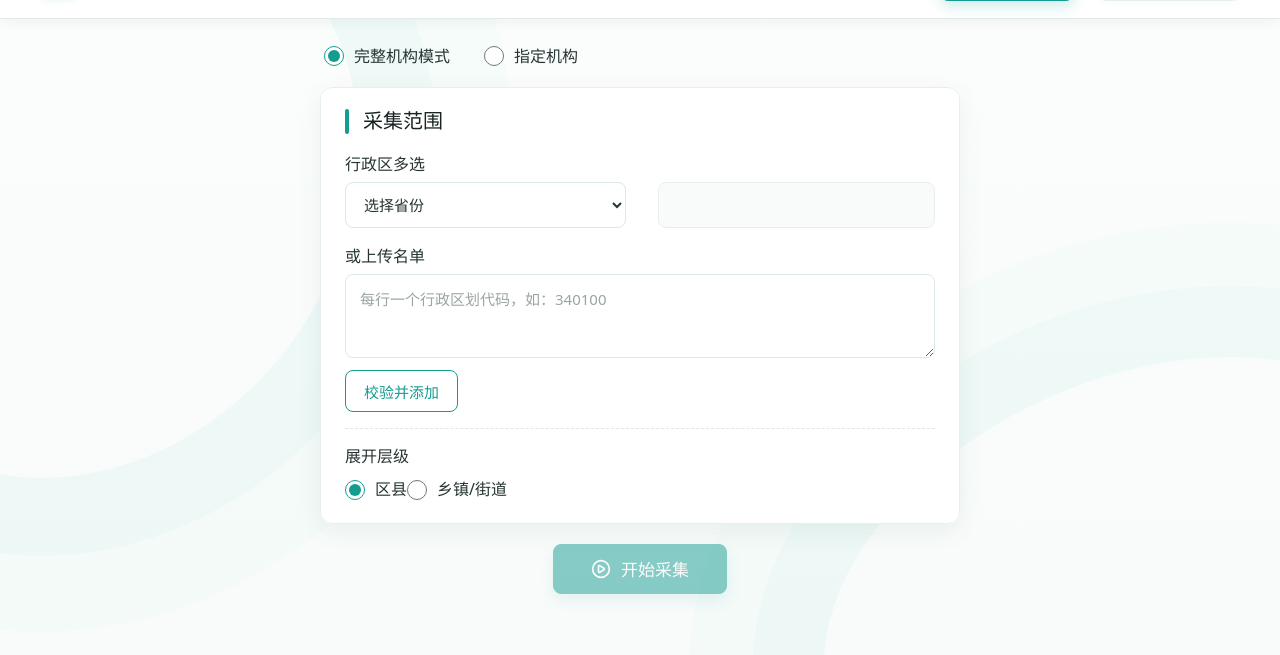
Test: 网页工作台 › 指定机构模式提交后显示任务状态与两行结果
This screenshot has width=1280, height=655.
Click the radio button labelled "指定机构" at (494, 56), box x1=484 y1=46 x2=504 y2=66
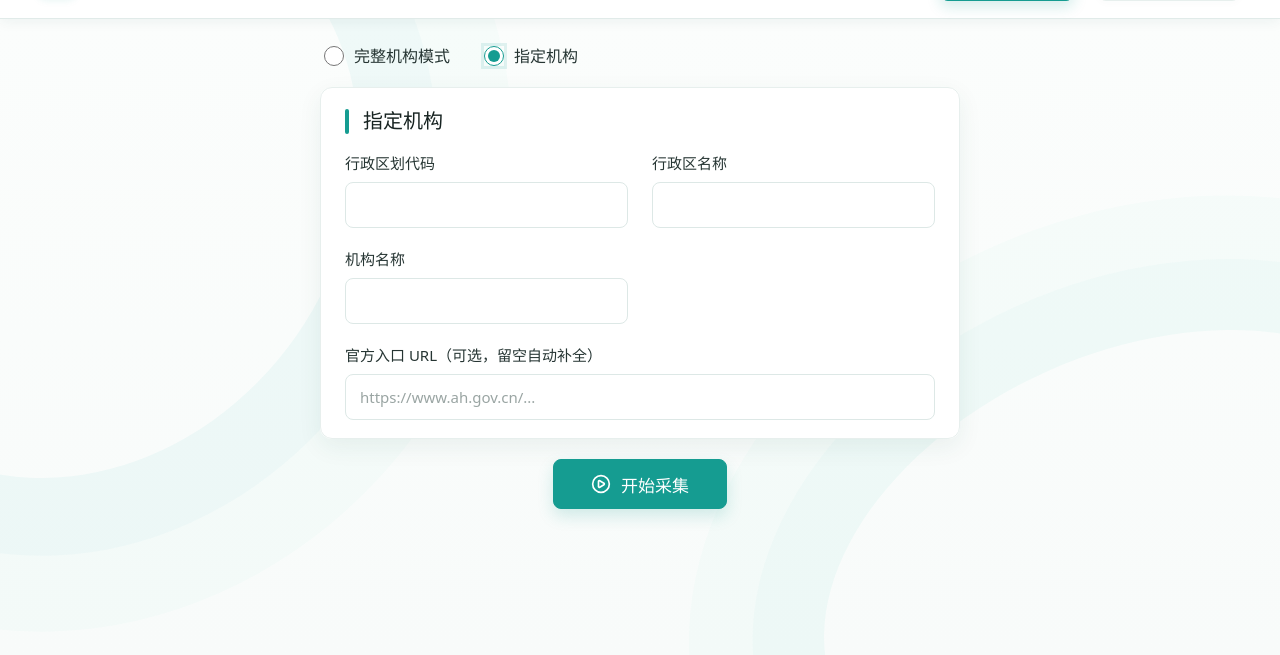
Type "110000" into the field labelled "行政区划代码" at (486, 205), box x1=345 y1=182 x2=628 y2=228
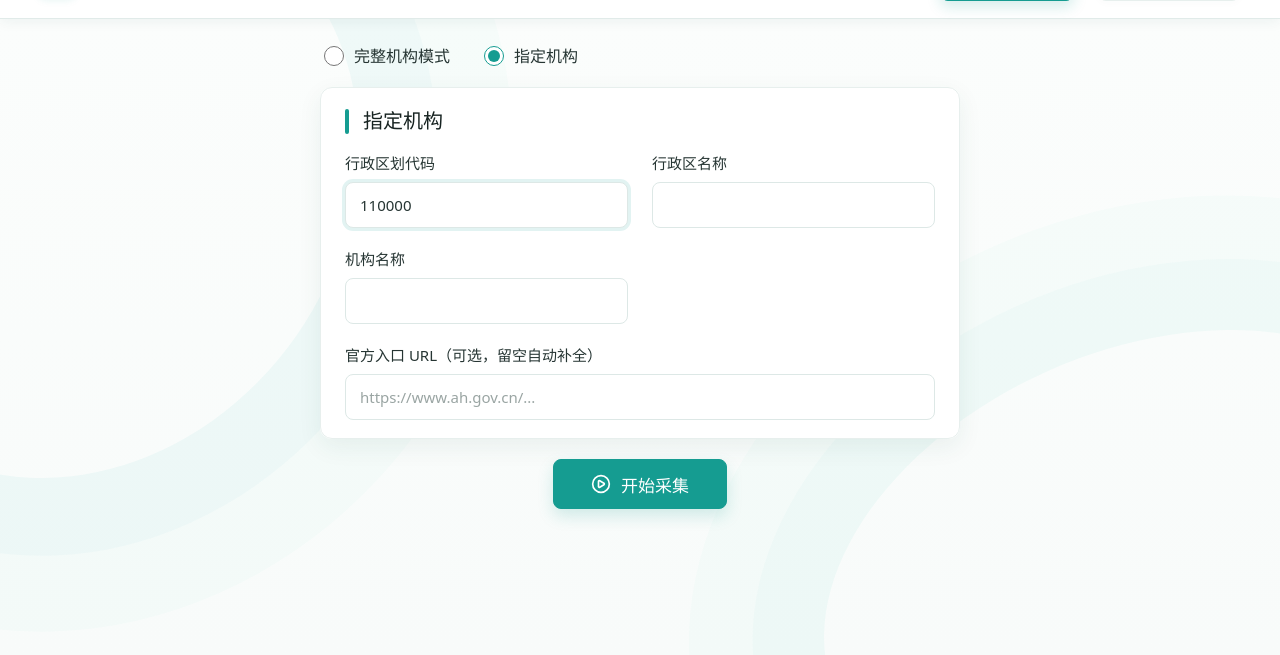
Type "北京市" into the field labelled "行政区名称" at (794, 205), box x1=652 y1=182 x2=935 y2=228
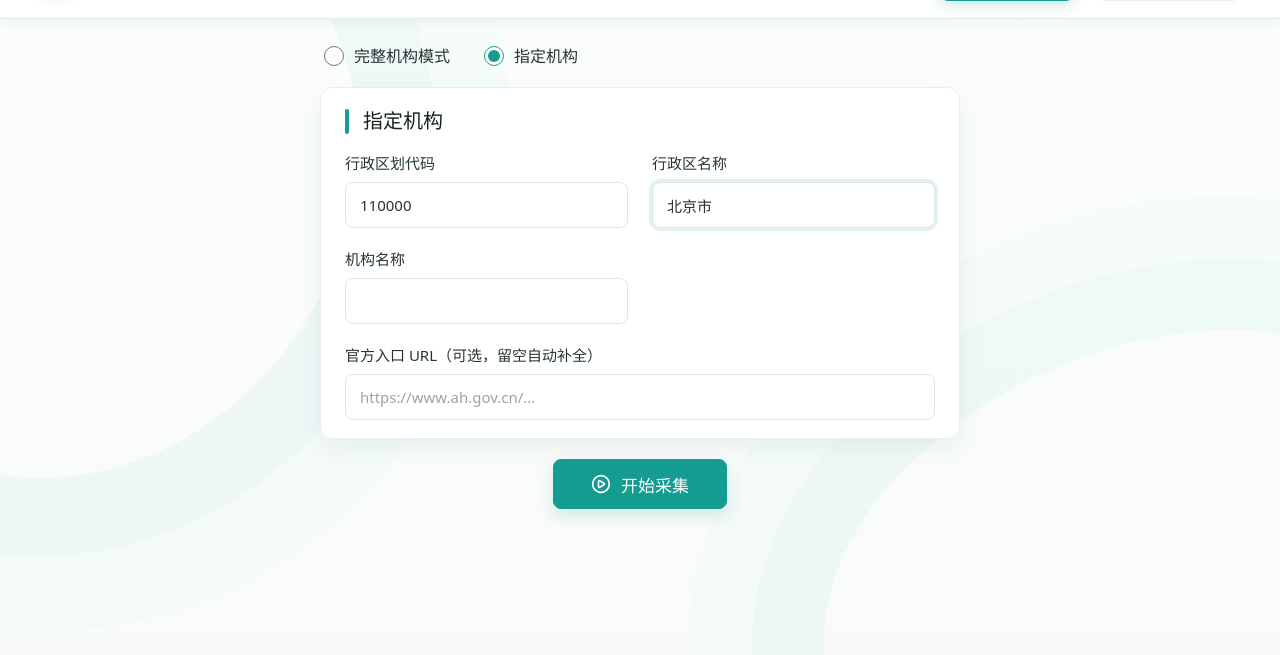
Type "某某区人民政府" into the field labelled "机构名称" at (486, 301), box x1=345 y1=278 x2=628 y2=324
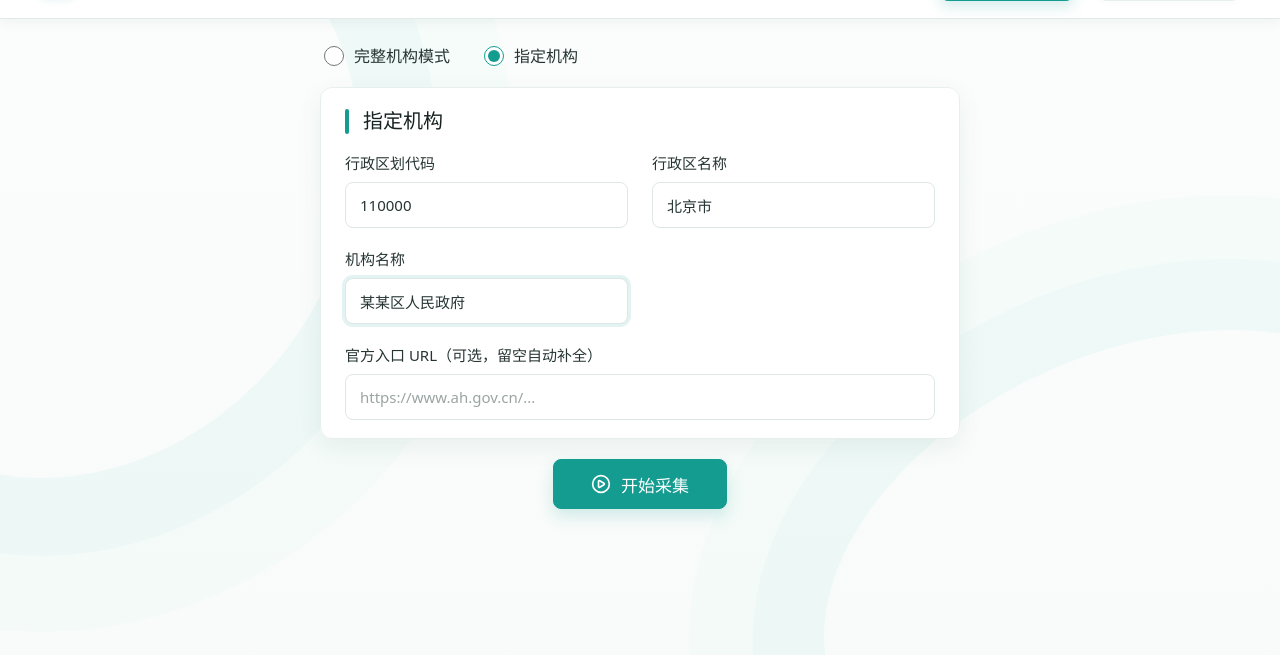
Click the button "开始采集" at (640, 484), box x1=553 y1=459 x2=727 y2=509
(page scrolled)
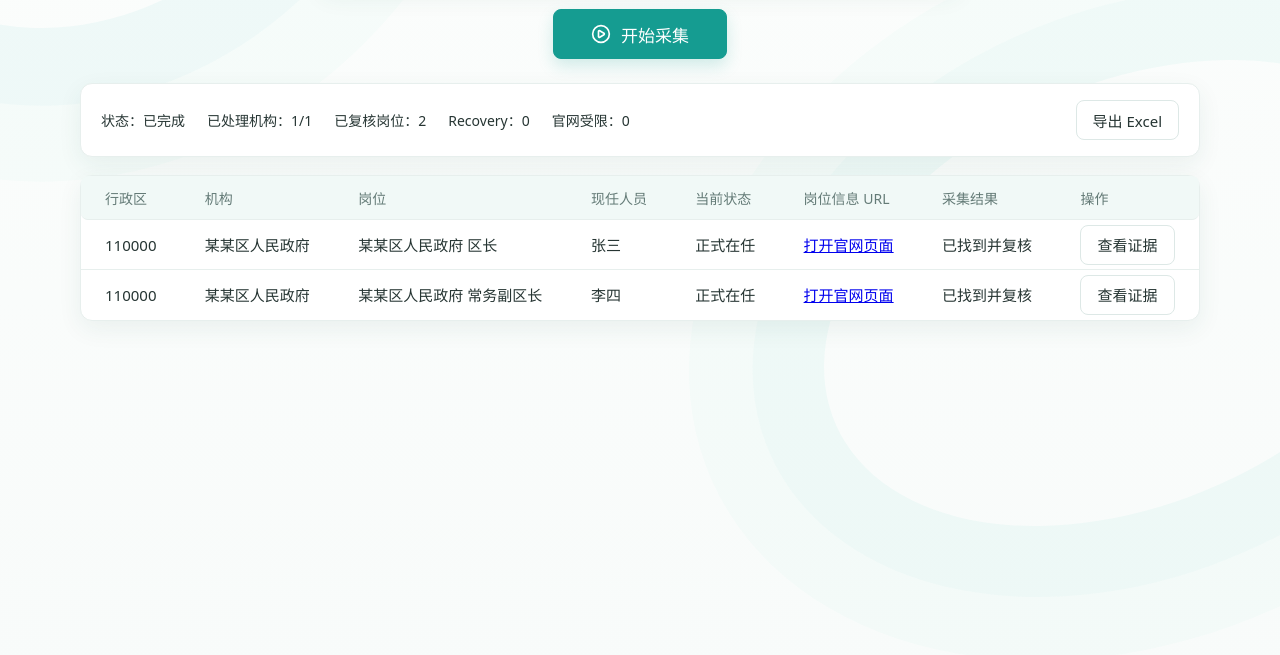
Result: the text "状态：已完成" is shown at x1=101 y1=110 x2=185 y2=130
Result: the text "张三" is shown at x1=567 y1=220 x2=671 y2=270
Result: the text "李四" is shown at x1=567 y1=270 x2=671 y2=320
